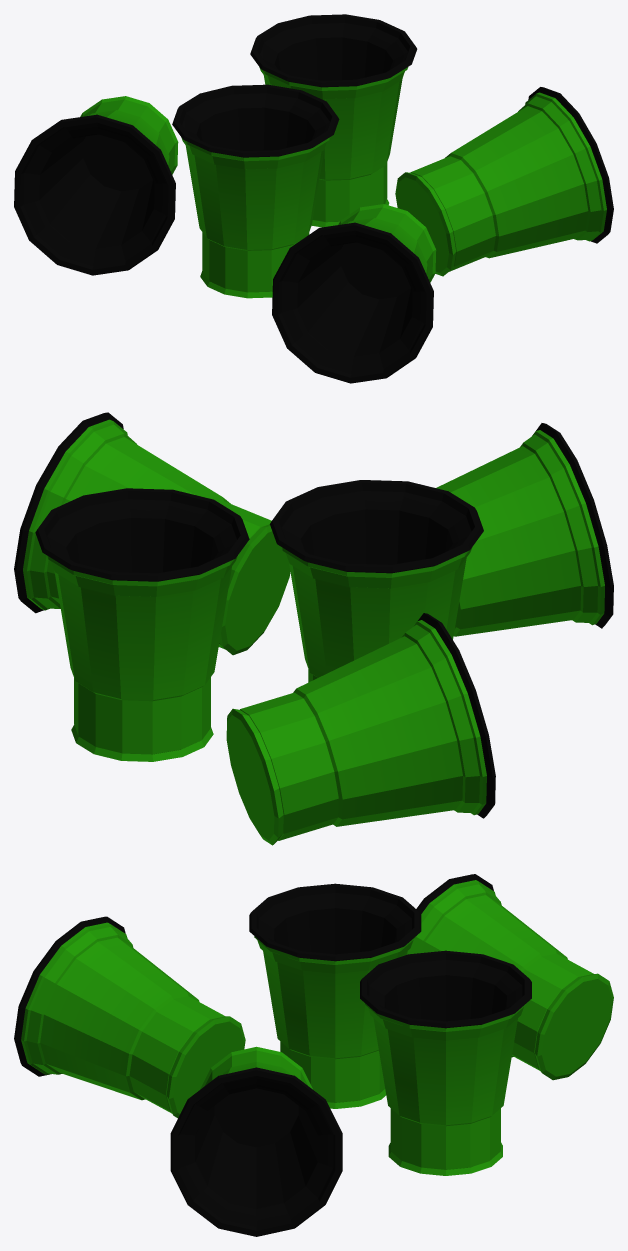
Rendered from SoloCupCluster_AD.fbx.
The picture shows the model from 3 angles, top to bottom: view 1: azimuth 30°, elevation 25°; view 2: azimuth 150°, elevation 25°; view 3: azimuth 270°, elevation 25°; orthographic projection. The views are drawn at different scales.
Visible parts, largest first — view 1: SoloCupCluster_AD; view 2: SoloCupCluster_AD; view 3: SoloCupCluster_AD.
Boxes of the visible parts, x1,y1,x2,y2 form: SoloCupCluster_AD: [14, 14, 613, 383]; SoloCupCluster_AD: [14, 412, 613, 845]; SoloCupCluster_AD: [14, 874, 613, 1236].
Bounding box in the file's own units: 51.09 × 17.25 × 55.34.
